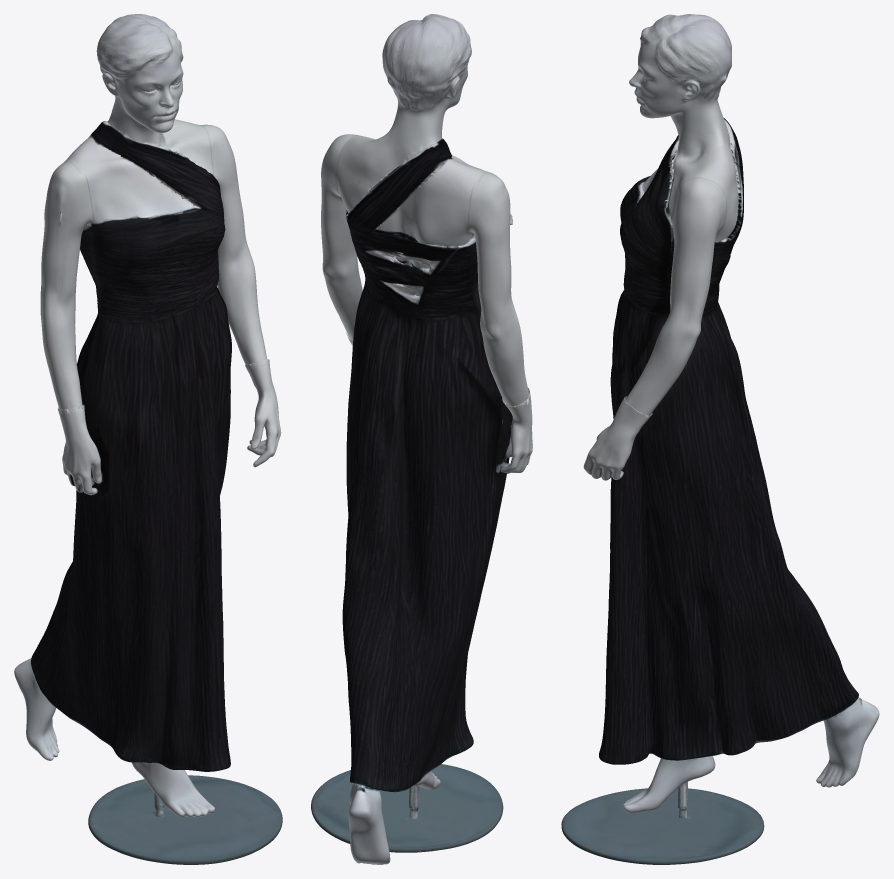
The picture shows the model from 3 angles, left to right: view 1: azimuth 30°, elevation 25°; view 2: azimuth 150°, elevation 25°; view 3: azimuth 270°, elevation 25°; orthographic projection.
Visible parts, largest first — view 1: tripo_node_711e7cc4-67da-45f6-8b87-1a5dff34360a; view 2: tripo_node_711e7cc4-67da-45f6-8b87-1a5dff34360a; view 3: tripo_node_711e7cc4-67da-45f6-8b87-1a5dff34360a.
Boxes of the visible parts, box(x1,y1,x2,y2) form: tripo_node_711e7cc4-67da-45f6-8b87-1a5dff34360a: box(14, 14, 282, 864); tripo_node_711e7cc4-67da-45f6-8b87-1a5dff34360a: box(311, 14, 532, 864); tripo_node_711e7cc4-67da-45f6-8b87-1a5dff34360a: box(561, 14, 879, 864).
Size of the model in its own units: 0.2664 by 0.9808 by 0.3543.
1 material, 1 textured.
